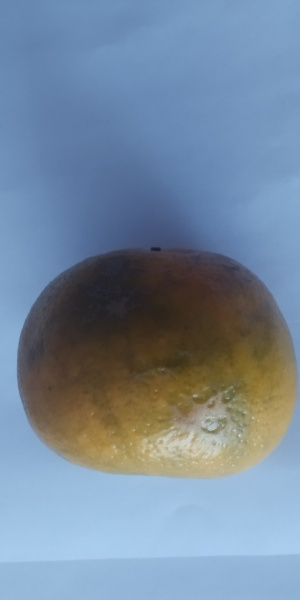BAD: (13, 244, 298, 480)
